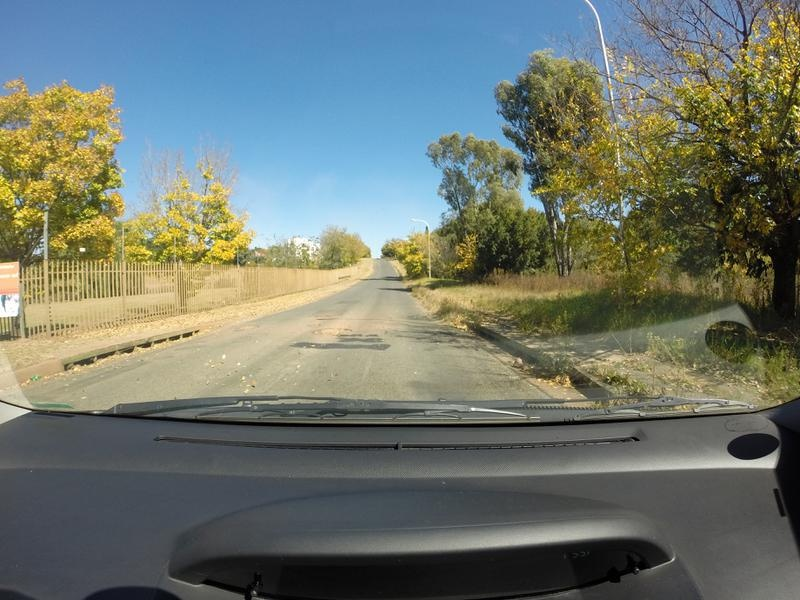pothole: (297, 316, 359, 345)
